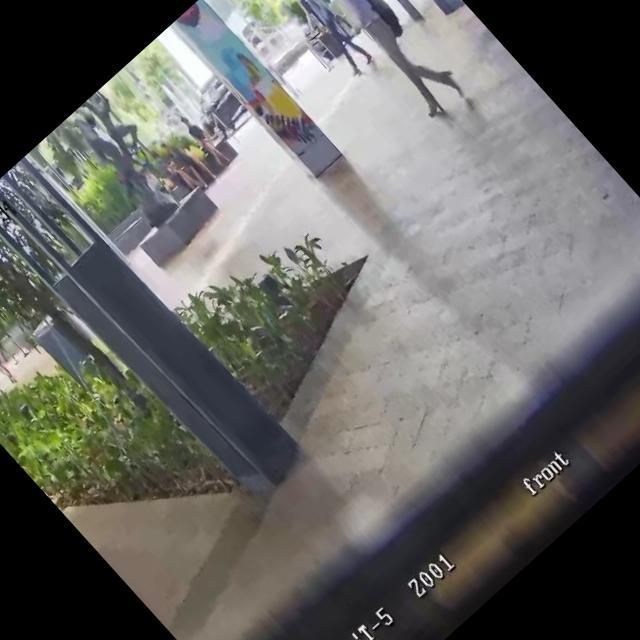person: (293, 0, 471, 125), (278, 0, 378, 79), (178, 112, 232, 170), (159, 138, 212, 195), (146, 146, 194, 198), (137, 164, 181, 211), (180, 136, 221, 180), (0, 318, 21, 389)
